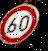Speed Limit -60-: (0, 1, 44, 45)
